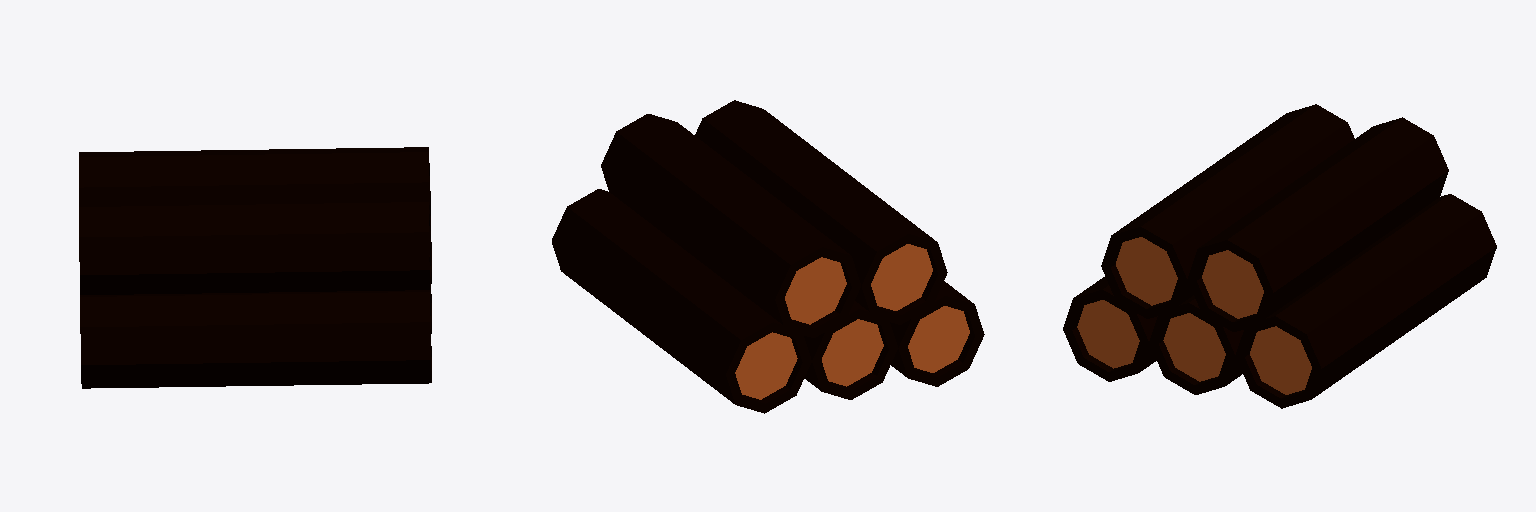
File: LogGroup1.obj
The picture shows the model from 3 angles: view 1: azimuth 30°, elevation 25°; view 2: azimuth 150°, elevation 25°; view 3: azimuth 270°, elevation 25°; orthographic projection.
Visible parts, largest first — view 1: LogGroup.001_Cylinder.006; view 2: LogGroup.001_Cylinder.006; view 3: LogGroup.001_Cylinder.006.
Part boxes in pixels (x1,y1,x2,y2): LogGroup.001_Cylinder.006: (79,147,431,388); LogGroup.001_Cylinder.006: (552,100,984,413); LogGroup.001_Cylinder.006: (1063,104,1496,408).
Bounding box in the file's own units: 1.81 × 0.7728 × 1.74.